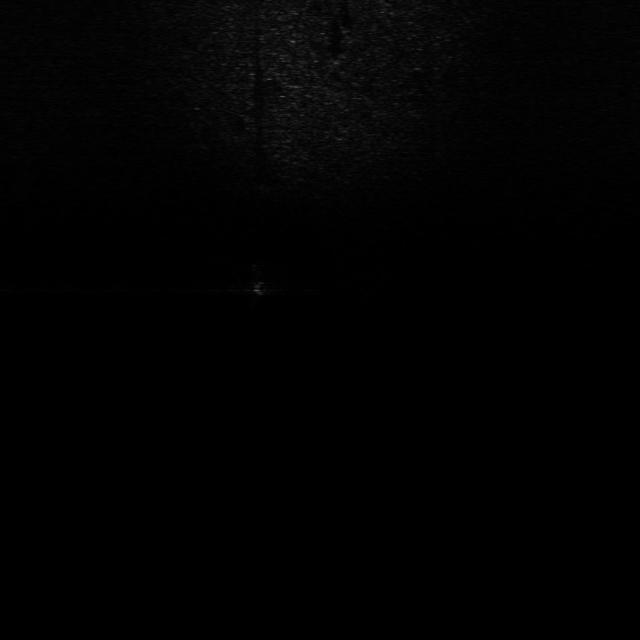human body: (234, 260, 277, 307)
